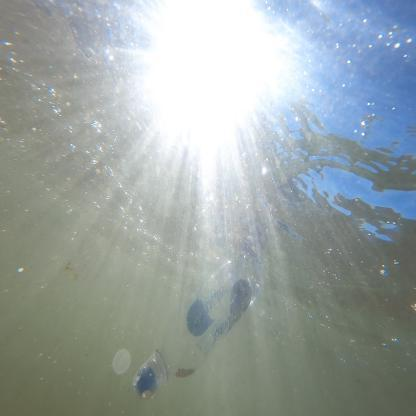Rác: (134, 238, 276, 400)
